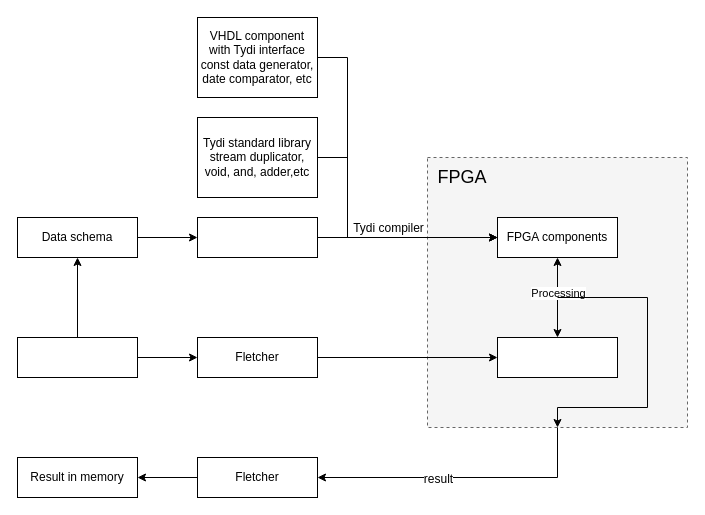
Some shapes in this 705 by 515 pixel diagram are drawn without their labels. Each missing label, with the centre of its shape:
Database in memory: (77,357)
FPGA components to access database: (557,357)
Tydi code: (257,237)
